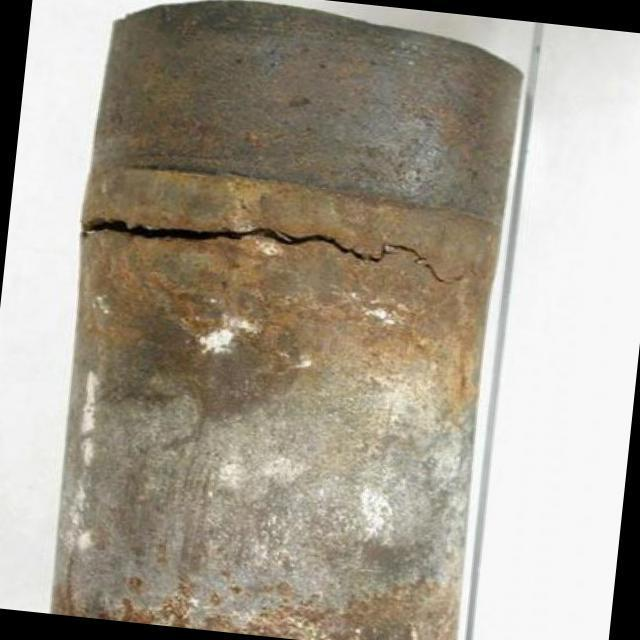defect: (79, 206, 469, 286)
